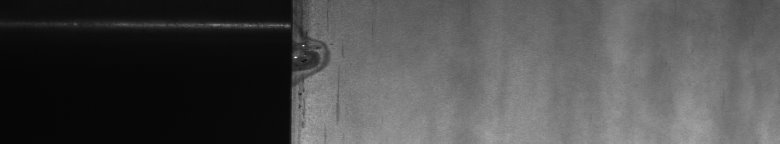hb: (304, 4, 343, 127)
